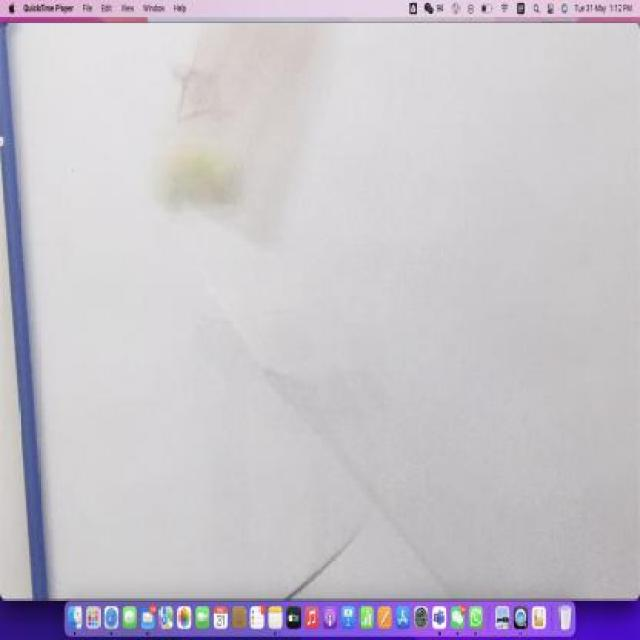baseball: (152, 135, 252, 213)
